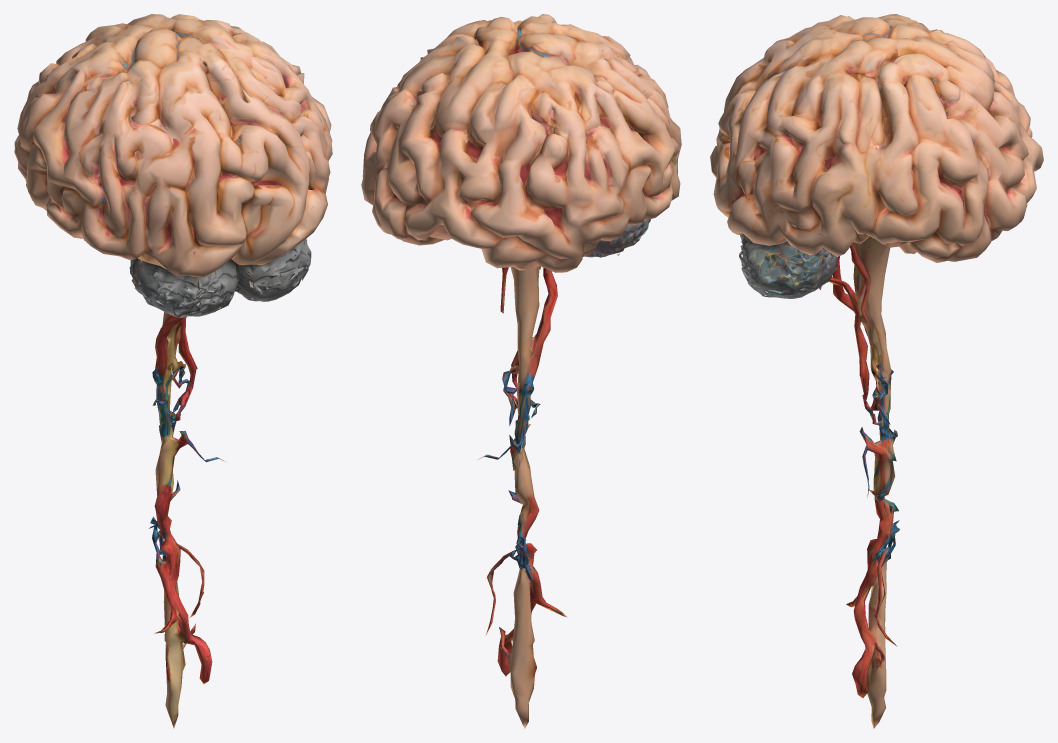
Rendered from brain.glb.
3 views of the same model, side by side, from view 1: azimuth 30°, elevation 25°; view 2: azimuth 150°, elevation 25°; view 3: azimuth 270°, elevation 25° (orthographic).
Size of the model in its own units: 0.8033 by 2.01 by 0.8655.
1 material, 1 textured.
